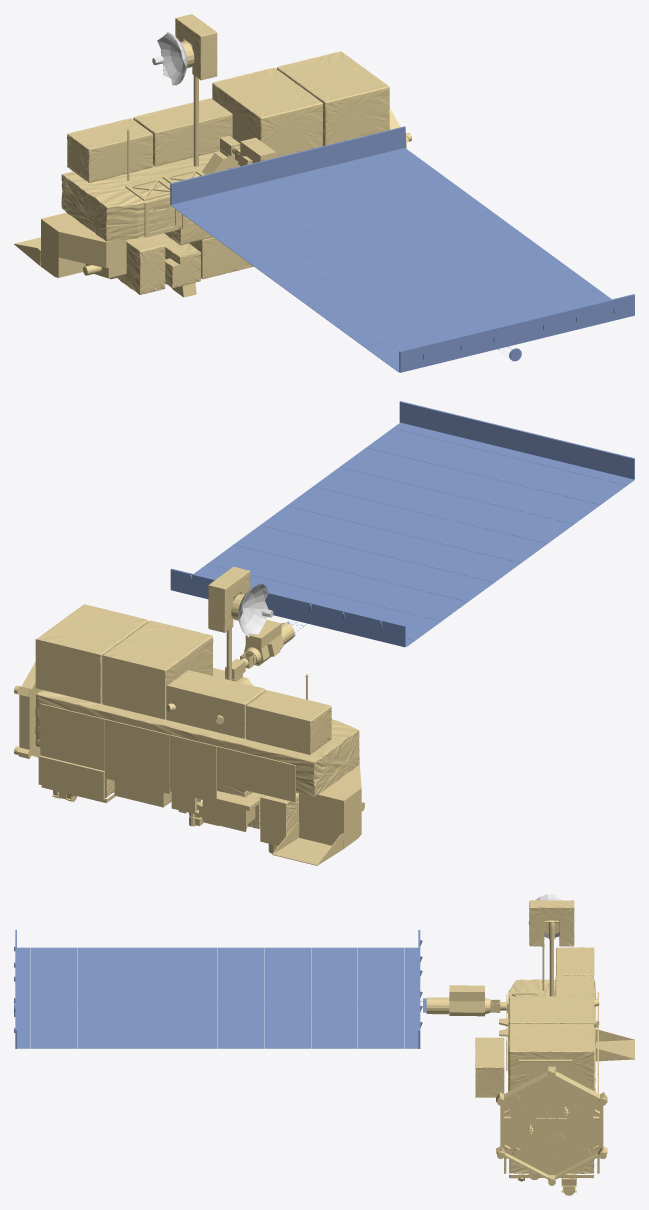
File: terra.glb
3 views of the same model, one above another, from view 1: azimuth 30°, elevation 25°; view 2: azimuth 150°, elevation 25°; view 3: azimuth 270°, elevation 25° (orthographic). The views are drawn at different scales.
Parts seen in each view (by area): view 1: solar, body, dish; view 2: body, solar, dish; view 3: solar, body.
Boxes of the visible parts, left/top/right/bottom form: solar: left=170, top=126, right=634, bottom=372; body: left=14, top=14, right=411, bottom=297; dish: left=152, top=32, right=187, bottom=85; body: left=14, top=566, right=364, bottom=865; solar: left=170, top=401, right=634, bottom=647; dish: left=238, top=584, right=273, bottom=637; solar: left=14, top=930, right=426, bottom=1048; body: left=426, top=900, right=634, bottom=1195.
Bounding box in the file's own units: 13622 × 10278 × 26054.
